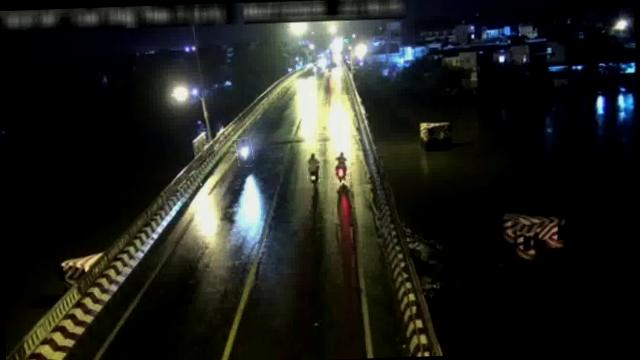Bike: (331, 150, 352, 184), (236, 138, 254, 168), (306, 152, 321, 184)
